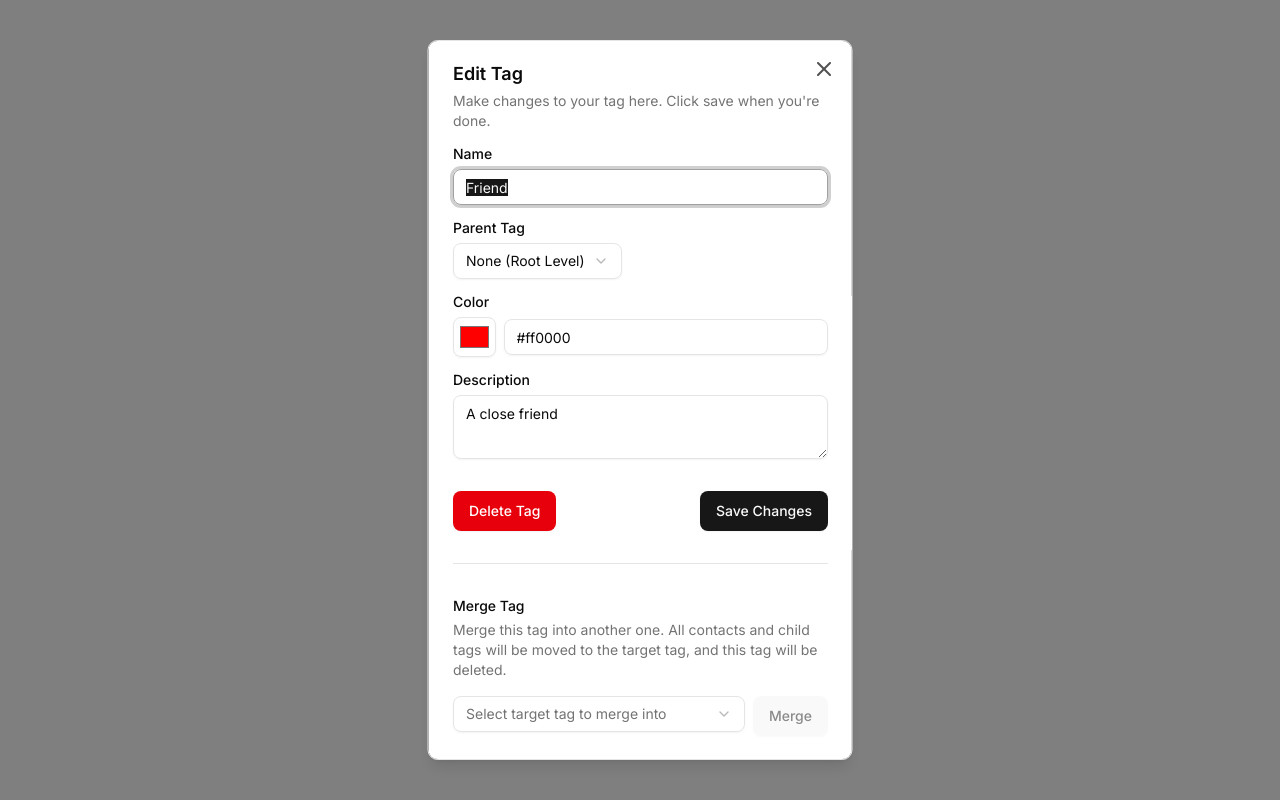
Test: TagManagementDialog › with other tags available › excludes the edited tag from the parent options
Click the dropdown named "Parent Tag": (537, 261) [452, 243, 621, 279]
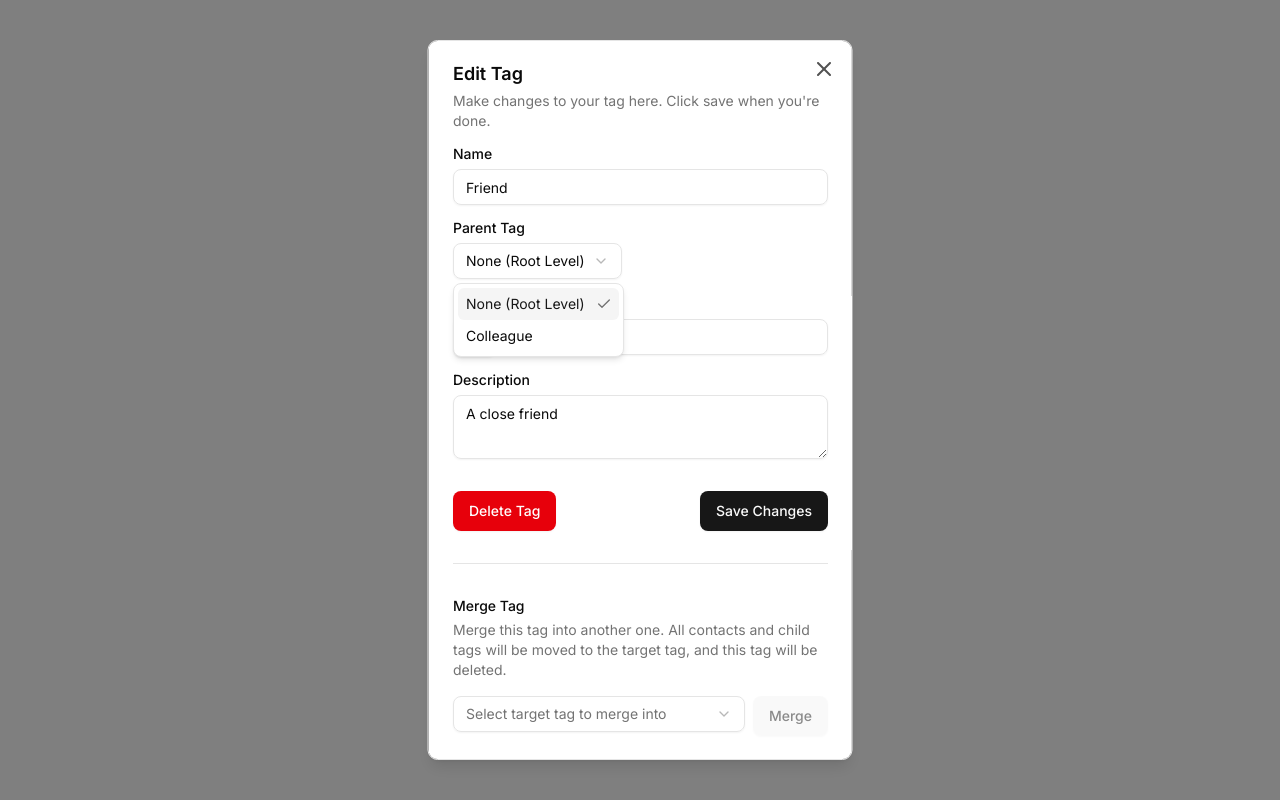
expect the option "Colleague" is shown: met, box [466, 327, 533, 344]
expect the option "None (Root Level)" is shown: met, box [458, 288, 619, 320]
